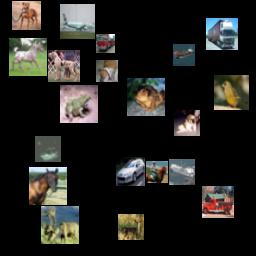airplane: (60, 4, 95, 39)
automobile: (116, 157, 145, 186)
bird: (214, 75, 249, 110)
cat: (35, 136, 61, 162)
deer: (41, 206, 79, 244), (118, 214, 144, 240)
dog: (48, 50, 80, 82), (12, 1, 41, 30), (174, 110, 200, 136), (96, 60, 118, 82)
frog: (60, 85, 98, 123), (127, 78, 165, 116)
ship: (169, 159, 195, 185), (173, 44, 195, 66)
truck: (202, 186, 234, 218), (206, 18, 238, 50), (96, 34, 115, 53)
